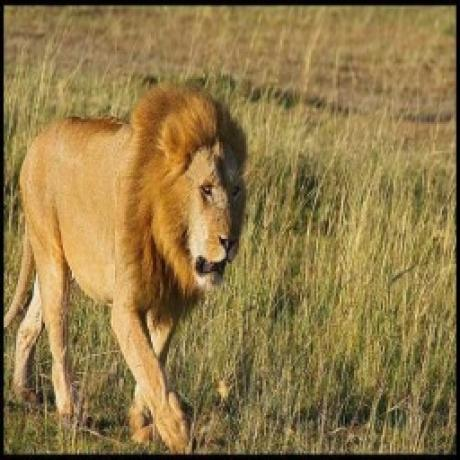Lion: (5, 80, 249, 456)
